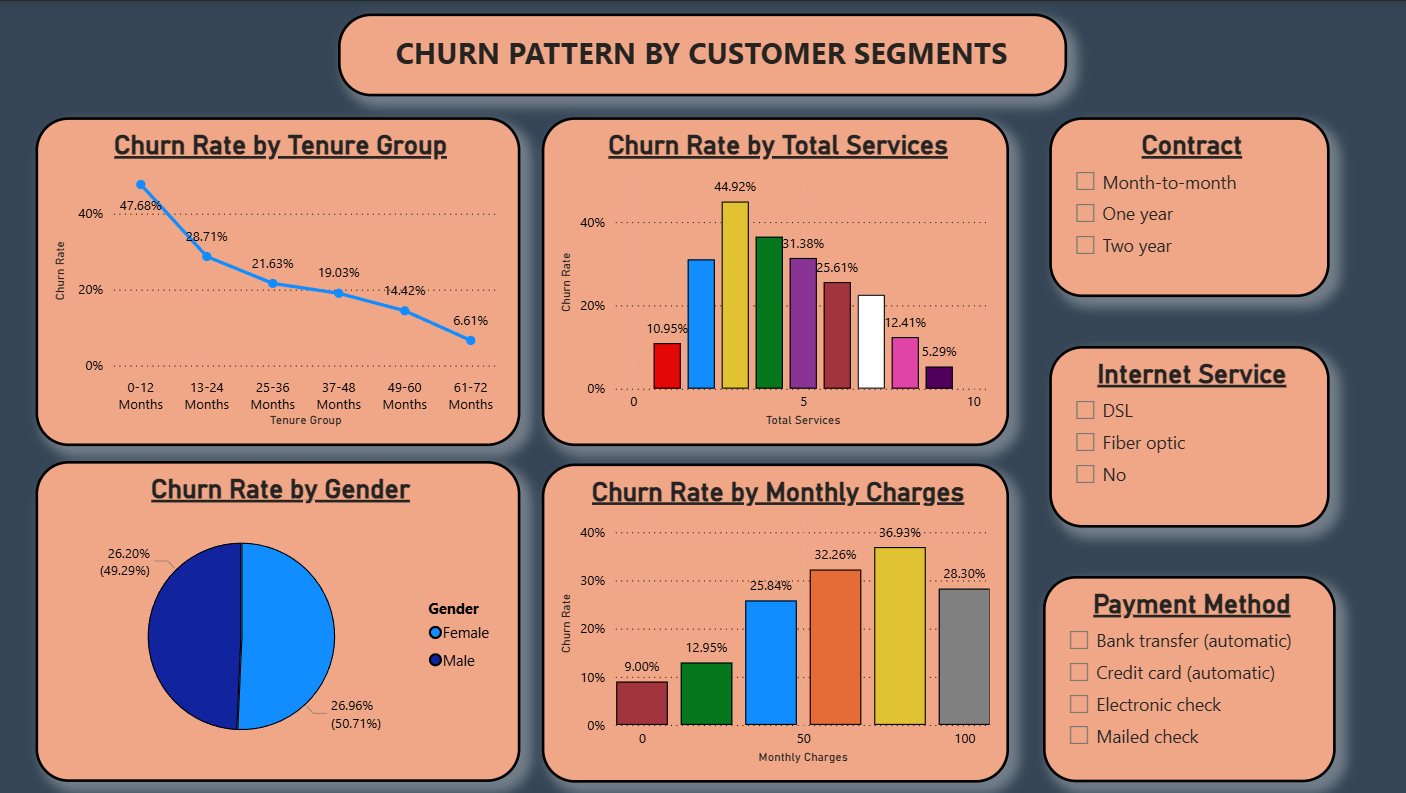

The page's visual inventory and layout, read from the dashboard file:
{"tool":"powerbi","page":{"name":"Churn Patterns by Customer Segments","canvas":[1280,720],"ordinal":1},"visuals":[{"type":"lineChart","title":"Churn Rate by Tenure Group","fields":{"Y":["telco_churn_for_powerbi.overallchurnrate"],"Category":["telco_churn_for_powerbi.tenure_group"]},"box":[34,105.5,440.1,298.3],"z":0},{"type":"columnChart","title":"Churn Rate by Total Services","fields":{"Y":["telco_churn_for_powerbi.overallchurnrate"],"Category":["telco_churn_for_powerbi.total_services"]},"box":[493.4,105.5,424.2,298.3],"z":1000},{"type":"pieChart","title":"Churn Rate by Gender","fields":{"Y":["telco_churn_for_powerbi.overallchurnrate"],"Category":["telco_churn_for_powerbi.gender"]},"box":[34,417.4,440.1,291.5],"z":2000},{"type":"slicer","title":"Contract","fields":{"Values":["telco_churn_for_powerbi.Contract"]},"box":[953.9,105.5,254.1,163.3],"z":3000},{"type":"slicer","title":"Internet Service","fields":{"Values":["telco_churn_for_powerbi.InternetService"]},"box":[953.9,313,254.1,164.5],"z":4000},{"type":"slicer","title":"Payment Method","fields":{"Values":["telco_churn_for_powerbi.PaymentMethod"]},"box":[948.2,521.7,265.4,187.1],"z":5000},{"type":"columnChart","title":"Churn Rate by Monthly Charges","fields":{"Category":["telco_churn_for_powerbi.MonthlyCharges (bins)"],"Y":["telco_churn_for_powerbi.overallchurnrate"]},"box":[493.4,419.7,424.2,289.2],"z":6000},{"type":"textbox","box":[308.5,11.3,661.3,74.9],"z":7000}]}

Visuals, with their boxes in screenshot pixels (x1, y1, x2, y2), scaled from the page's 1280x720 canvas onto the 1406x793 screenshot:
"Churn Rate by Tenure Group" lineChart: [37,116,521,445]
"Churn Rate by Total Services" columnChart: [542,116,1008,445]
"Churn Rate by Gender" pieChart: [37,460,521,781]
"Contract" slicer: [1048,116,1327,296]
"Internet Service" slicer: [1048,345,1327,526]
"Payment Method" slicer: [1042,575,1333,781]
"Churn Rate by Monthly Charges" columnChart: [542,462,1008,781]
textbox: [339,12,1065,95]
